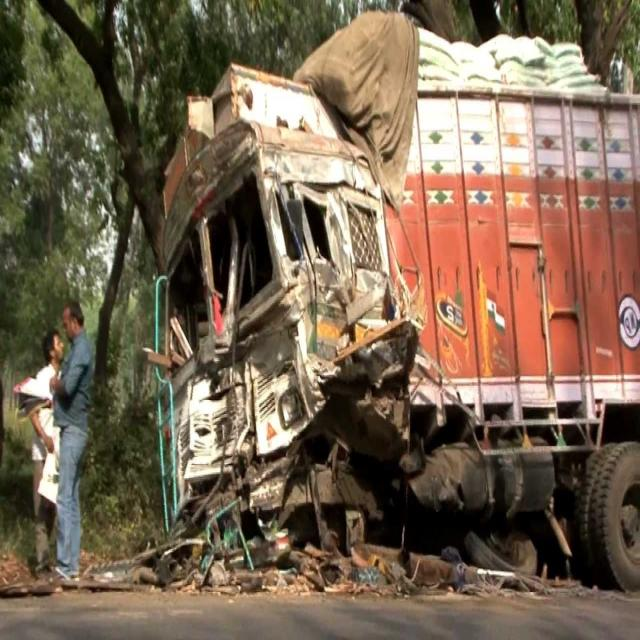accident: (144, 13, 640, 591)
